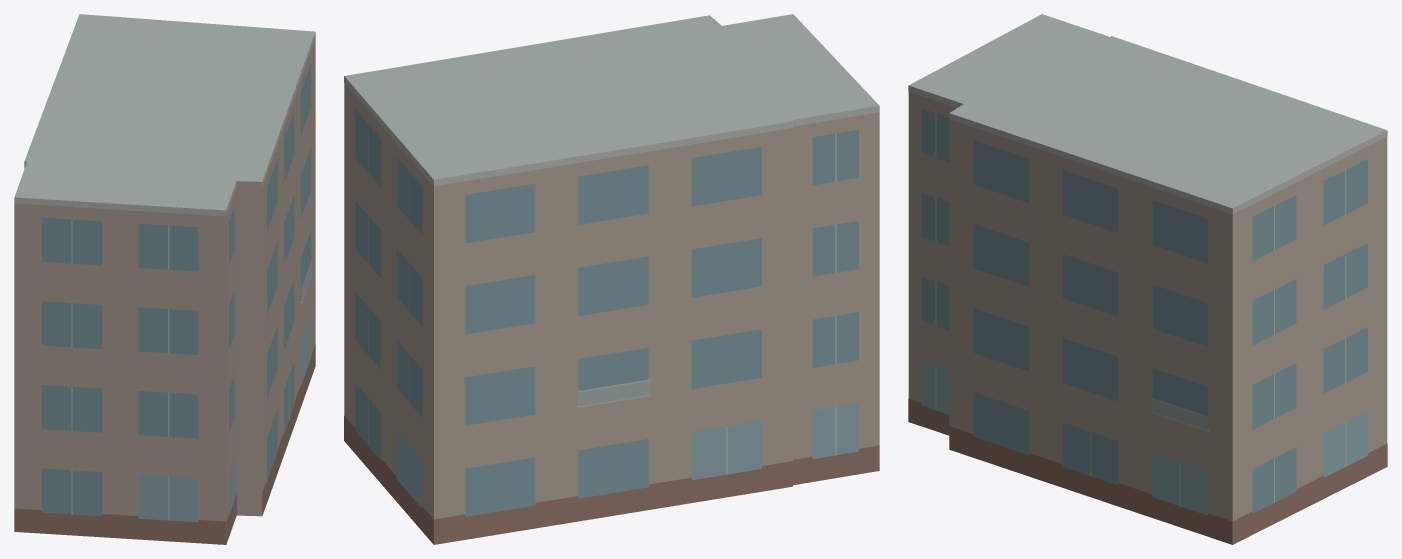
Rendered from survey-upis-32707937.glb.
3 renders of one model, left to right at view 1: azimuth 30°, elevation 25°; view 2: azimuth 150°, elevation 25°; view 3: azimuth 270°, elevation 25°, orthographic. The views are drawn at different scales.
Parts seen in each view (by area): view 1: survey-upis-32707937.tmp; view 2: survey-upis-32707937.tmp; view 3: survey-upis-32707937.tmp.
Part boxes in pixels (x1,y1,x2,y2): survey-upis-32707937.tmp: [14, 14, 315, 544]; survey-upis-32707937.tmp: [344, 14, 879, 544]; survey-upis-32707937.tmp: [908, 14, 1387, 544].
Bounding box in the file's own units: 16.86 × 13.6 × 17.55.
